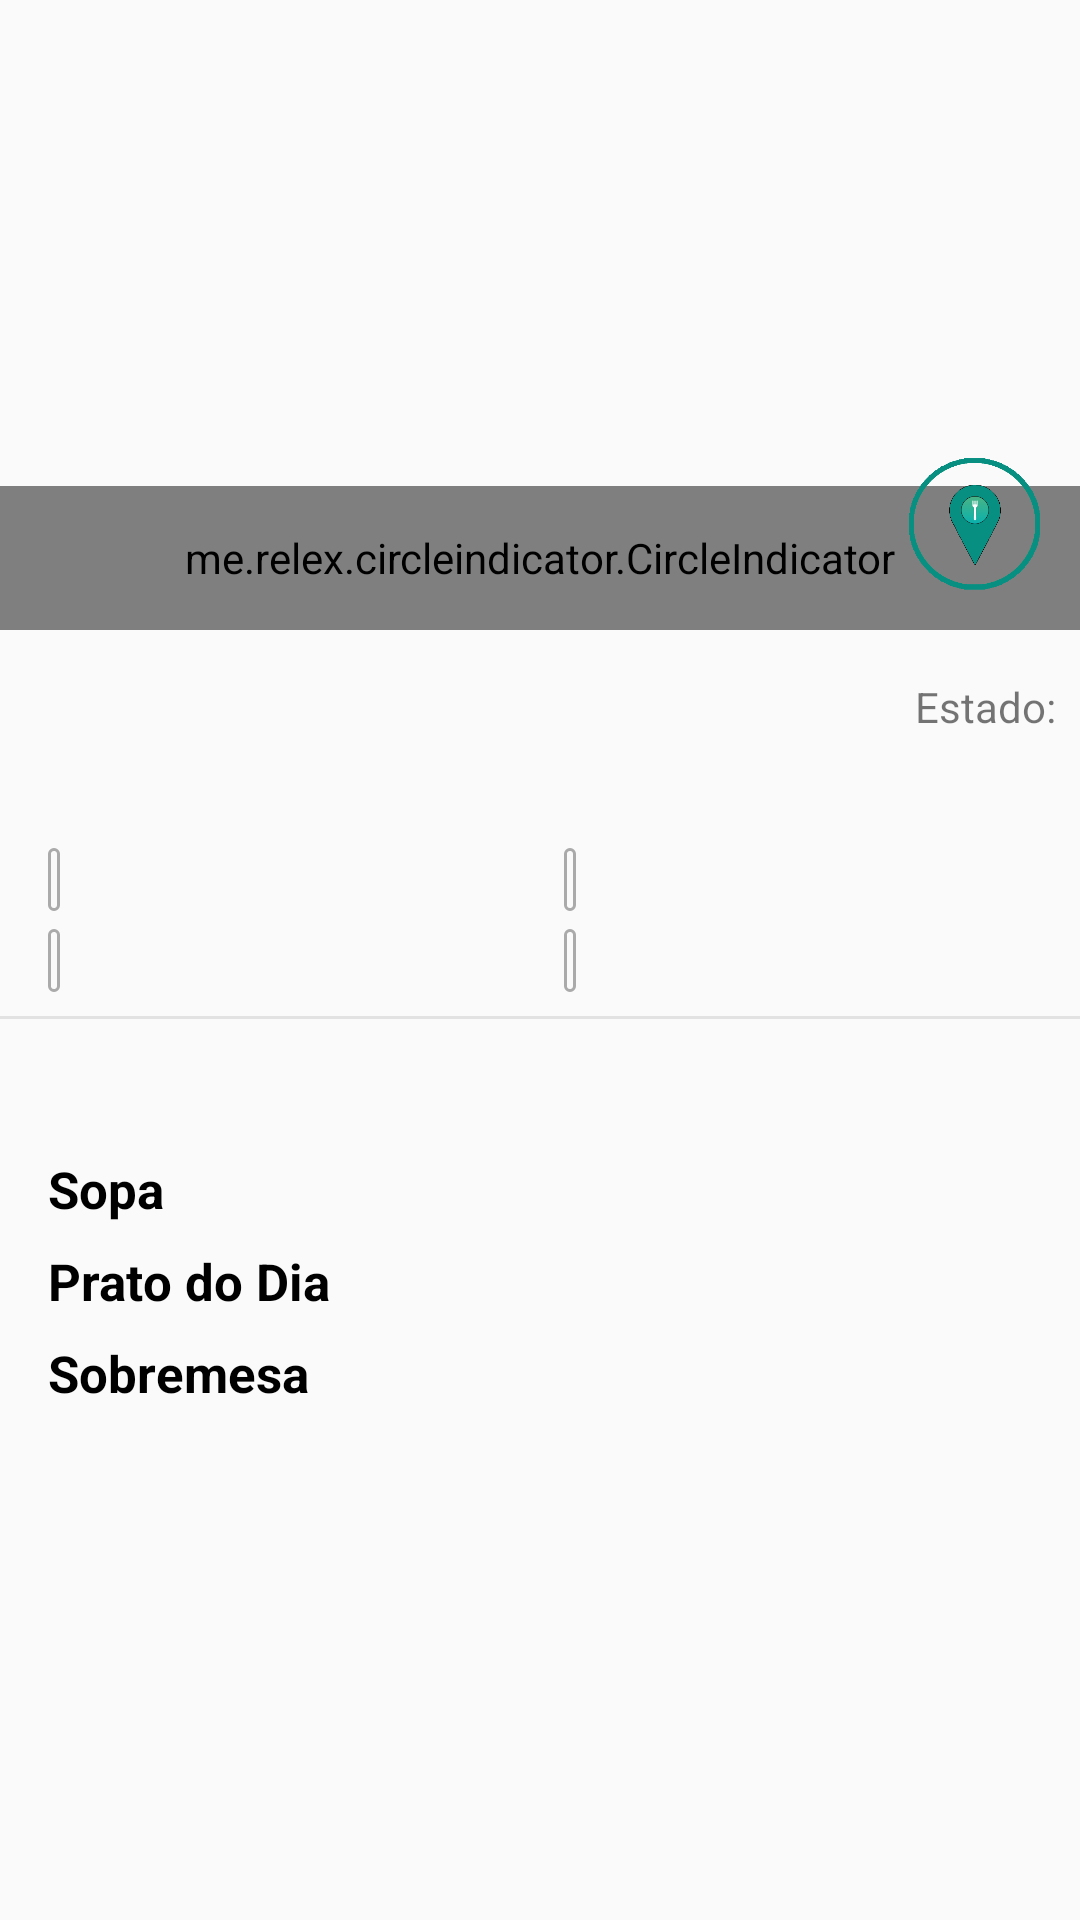

Point at icon controls on the screen. Image size 1080×1920, points as (x,y).
pinpoint: (975,520)
